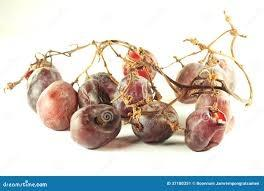Grape Rotten: (3, 9, 254, 152), (70, 104, 122, 150)
